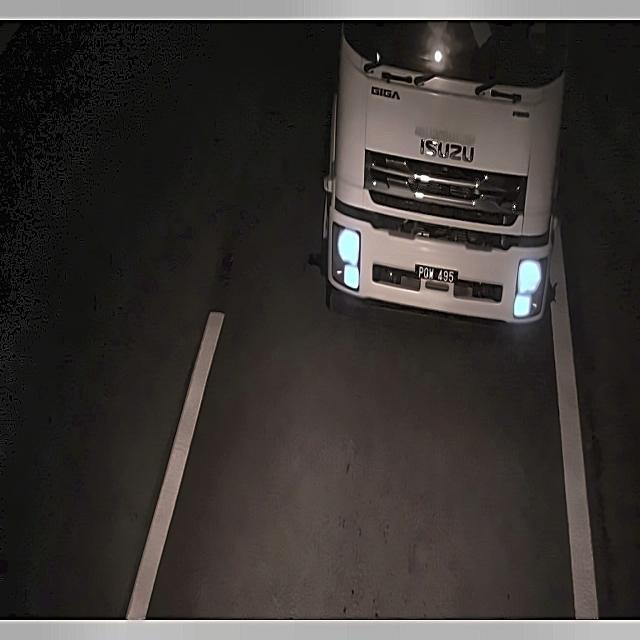car: (408, 259, 461, 288)
